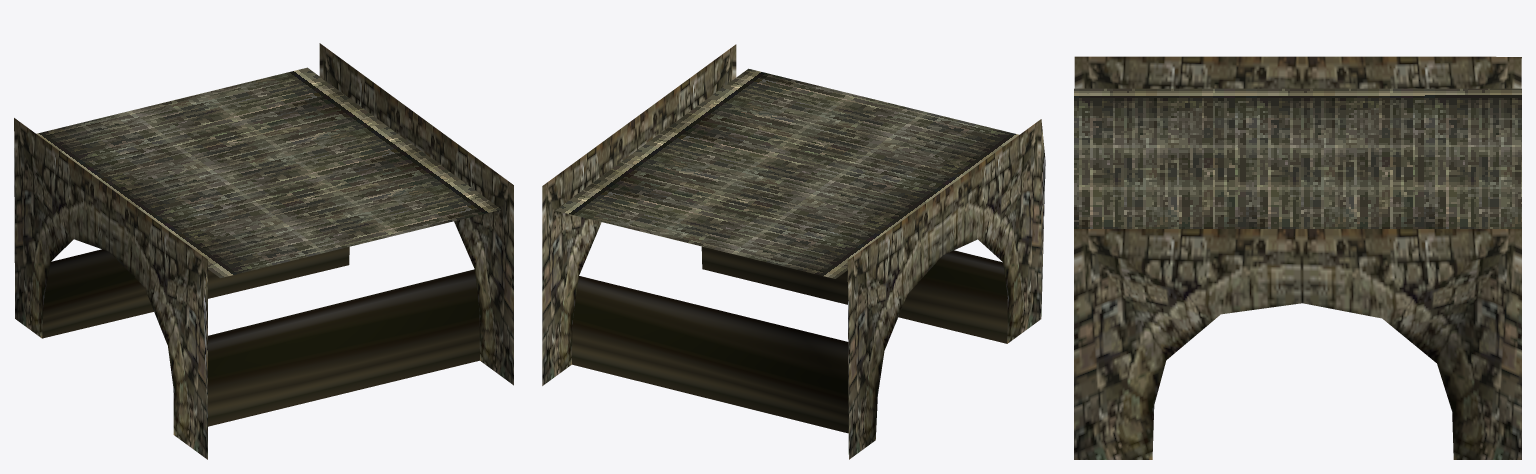
The model's file is Civilian - Commercial Building - Great Wall Small Arch - CMWalChna2.glb.
3 renders of one model, left to right at view 1: azimuth 30°, elevation 25°; view 2: azimuth 150°, elevation 25°; view 3: azimuth 270°, elevation 25°, orthographic. The views are drawn at different scales.
Visible parts, largest first — view 1: CMWALCHNA2; view 2: CMWALCHNA2; view 3: CMWALCHNA2.
Part boxes in pixels (<box>): CMWALCHNA2: <box>14,43,513,459</box>; CMWALCHNA2: <box>542,44,1045,459</box>; CMWALCHNA2: <box>1074,56,1521,459</box>.
Size of the model in its own units: 59.67 by 43.6 by 64.54.
4 materials, 4 textured.
